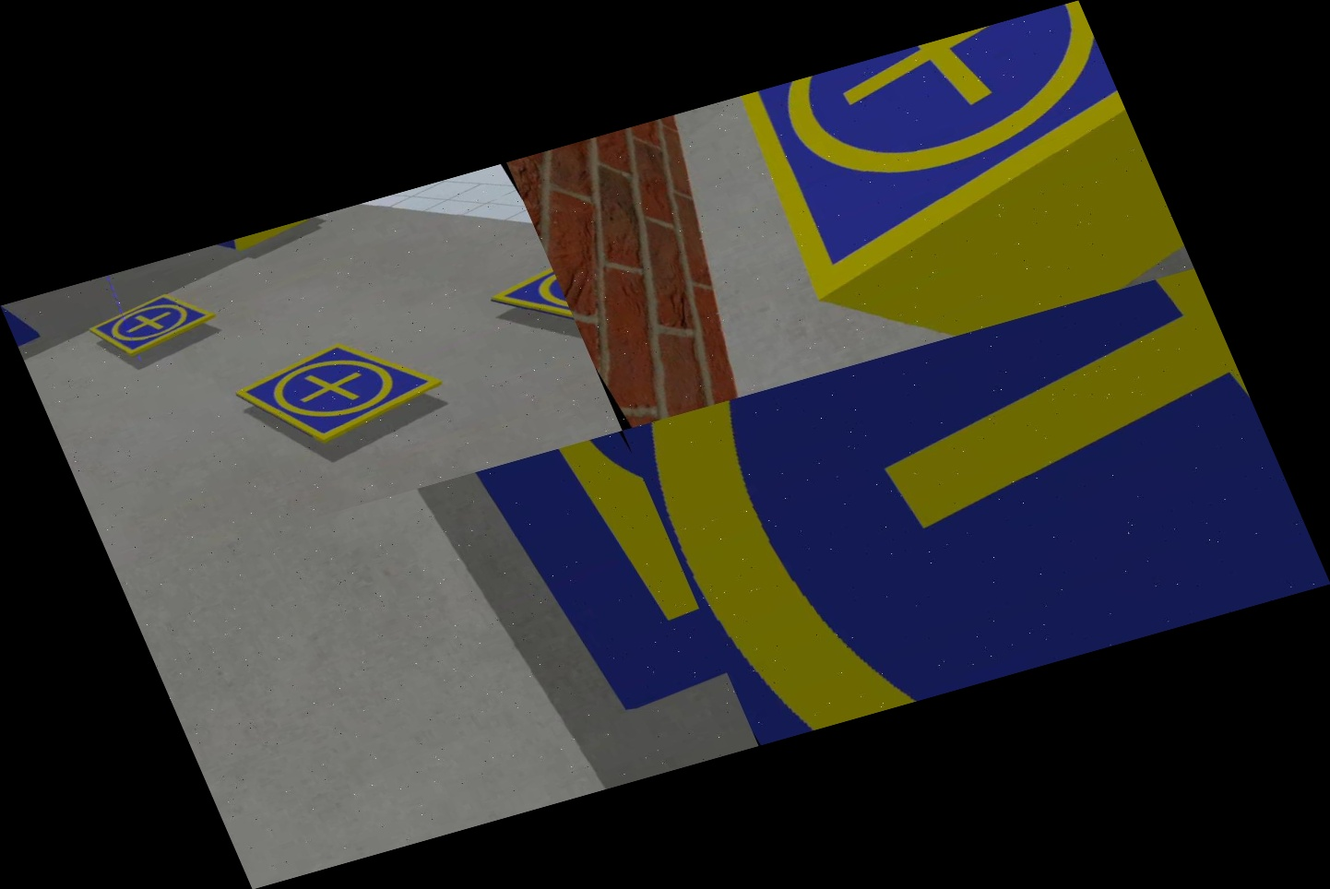large_base: (462, 430, 730, 727)
small_base: (623, 268, 1330, 745), (685, 0, 1166, 316), (227, 314, 457, 462), (82, 280, 222, 365), (481, 266, 582, 356)
